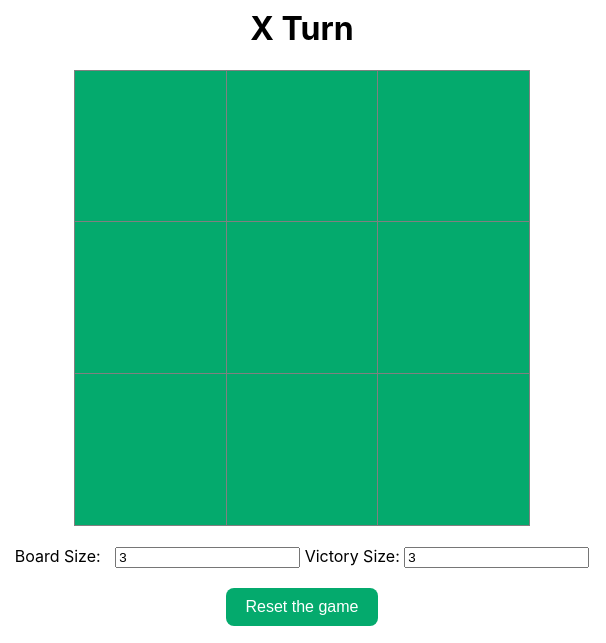
move with X
The width and height of the screenshot is (606, 643).
Step 1. Click the 1st cell → (150, 146), box [75,70,226,222]
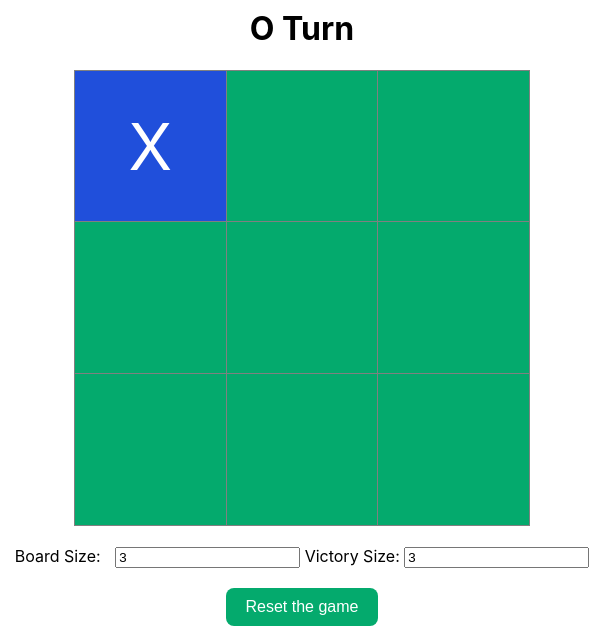
Expected: the cell "X" is shown, [75,70,226,222]
